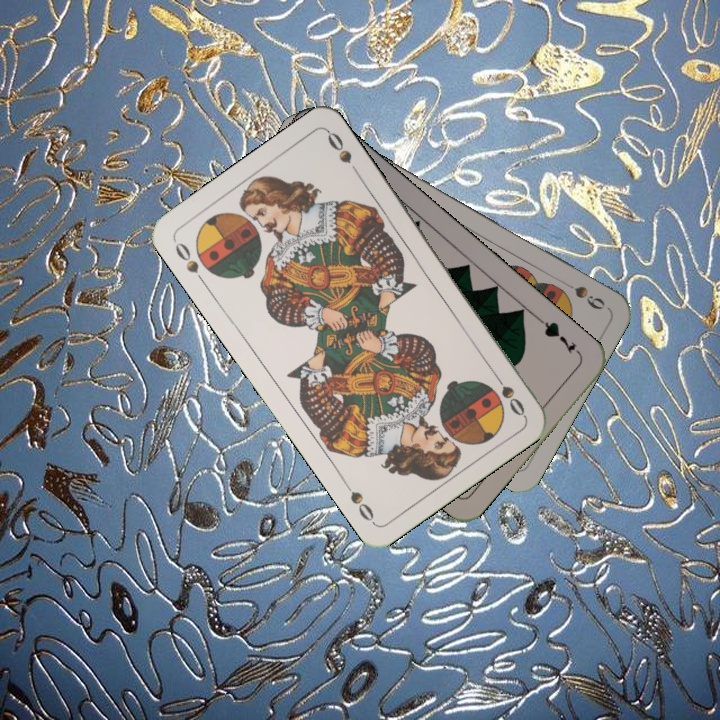G7: (535, 314, 584, 359)
S9: (559, 277, 608, 313)
SO: (488, 367, 528, 419), (170, 237, 209, 288)
